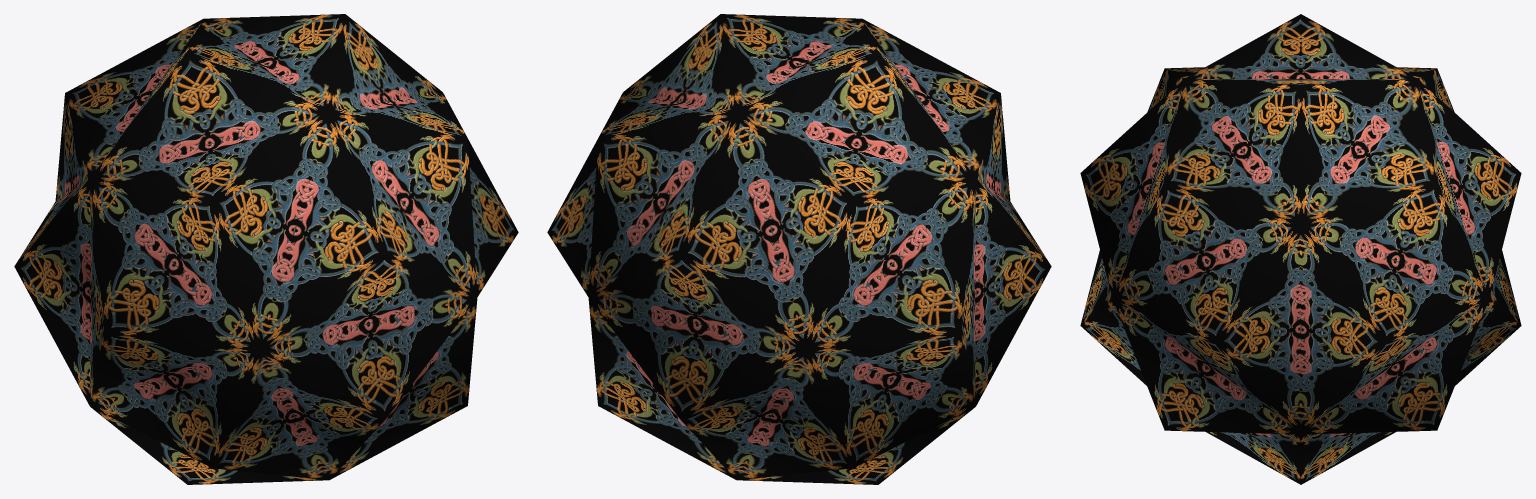
Rendered from SmallTriambicIcosahedron.gltf.
The picture shows the model from 3 angles, left to right: view 1: azimuth 30°, elevation 25°; view 2: azimuth 150°, elevation 25°; view 3: azimuth 270°, elevation 25°; orthographic projection. The views are drawn at different scales.
Visible parts, largest first — view 1: SmallTriambicIcosahedron; view 2: SmallTriambicIcosahedron; view 3: SmallTriambicIcosahedron.
Boxes of the visible parts, x1,y1,x2,y2 form: SmallTriambicIcosahedron: [14, 14, 518, 484]; SmallTriambicIcosahedron: [547, 14, 1051, 484]; SmallTriambicIcosahedron: [1080, 14, 1521, 484].
Size of the model in its own units: 1.45 by 1.45 by 1.45.
Materials: 1 (1 with a texture image).
